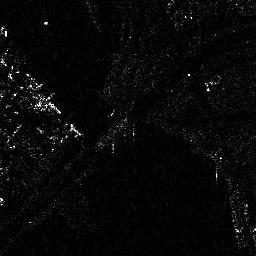ship: (94, 114, 128, 150)
